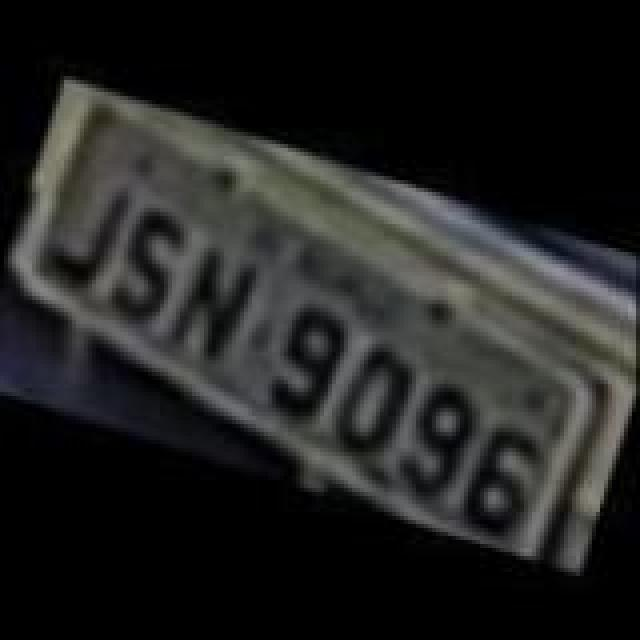6: (448, 404, 552, 548)
9: (254, 298, 354, 426), (386, 372, 482, 504)
J: (26, 158, 138, 290)
N: (160, 230, 268, 374)
O: (320, 334, 424, 474)
S: (96, 194, 192, 330)
